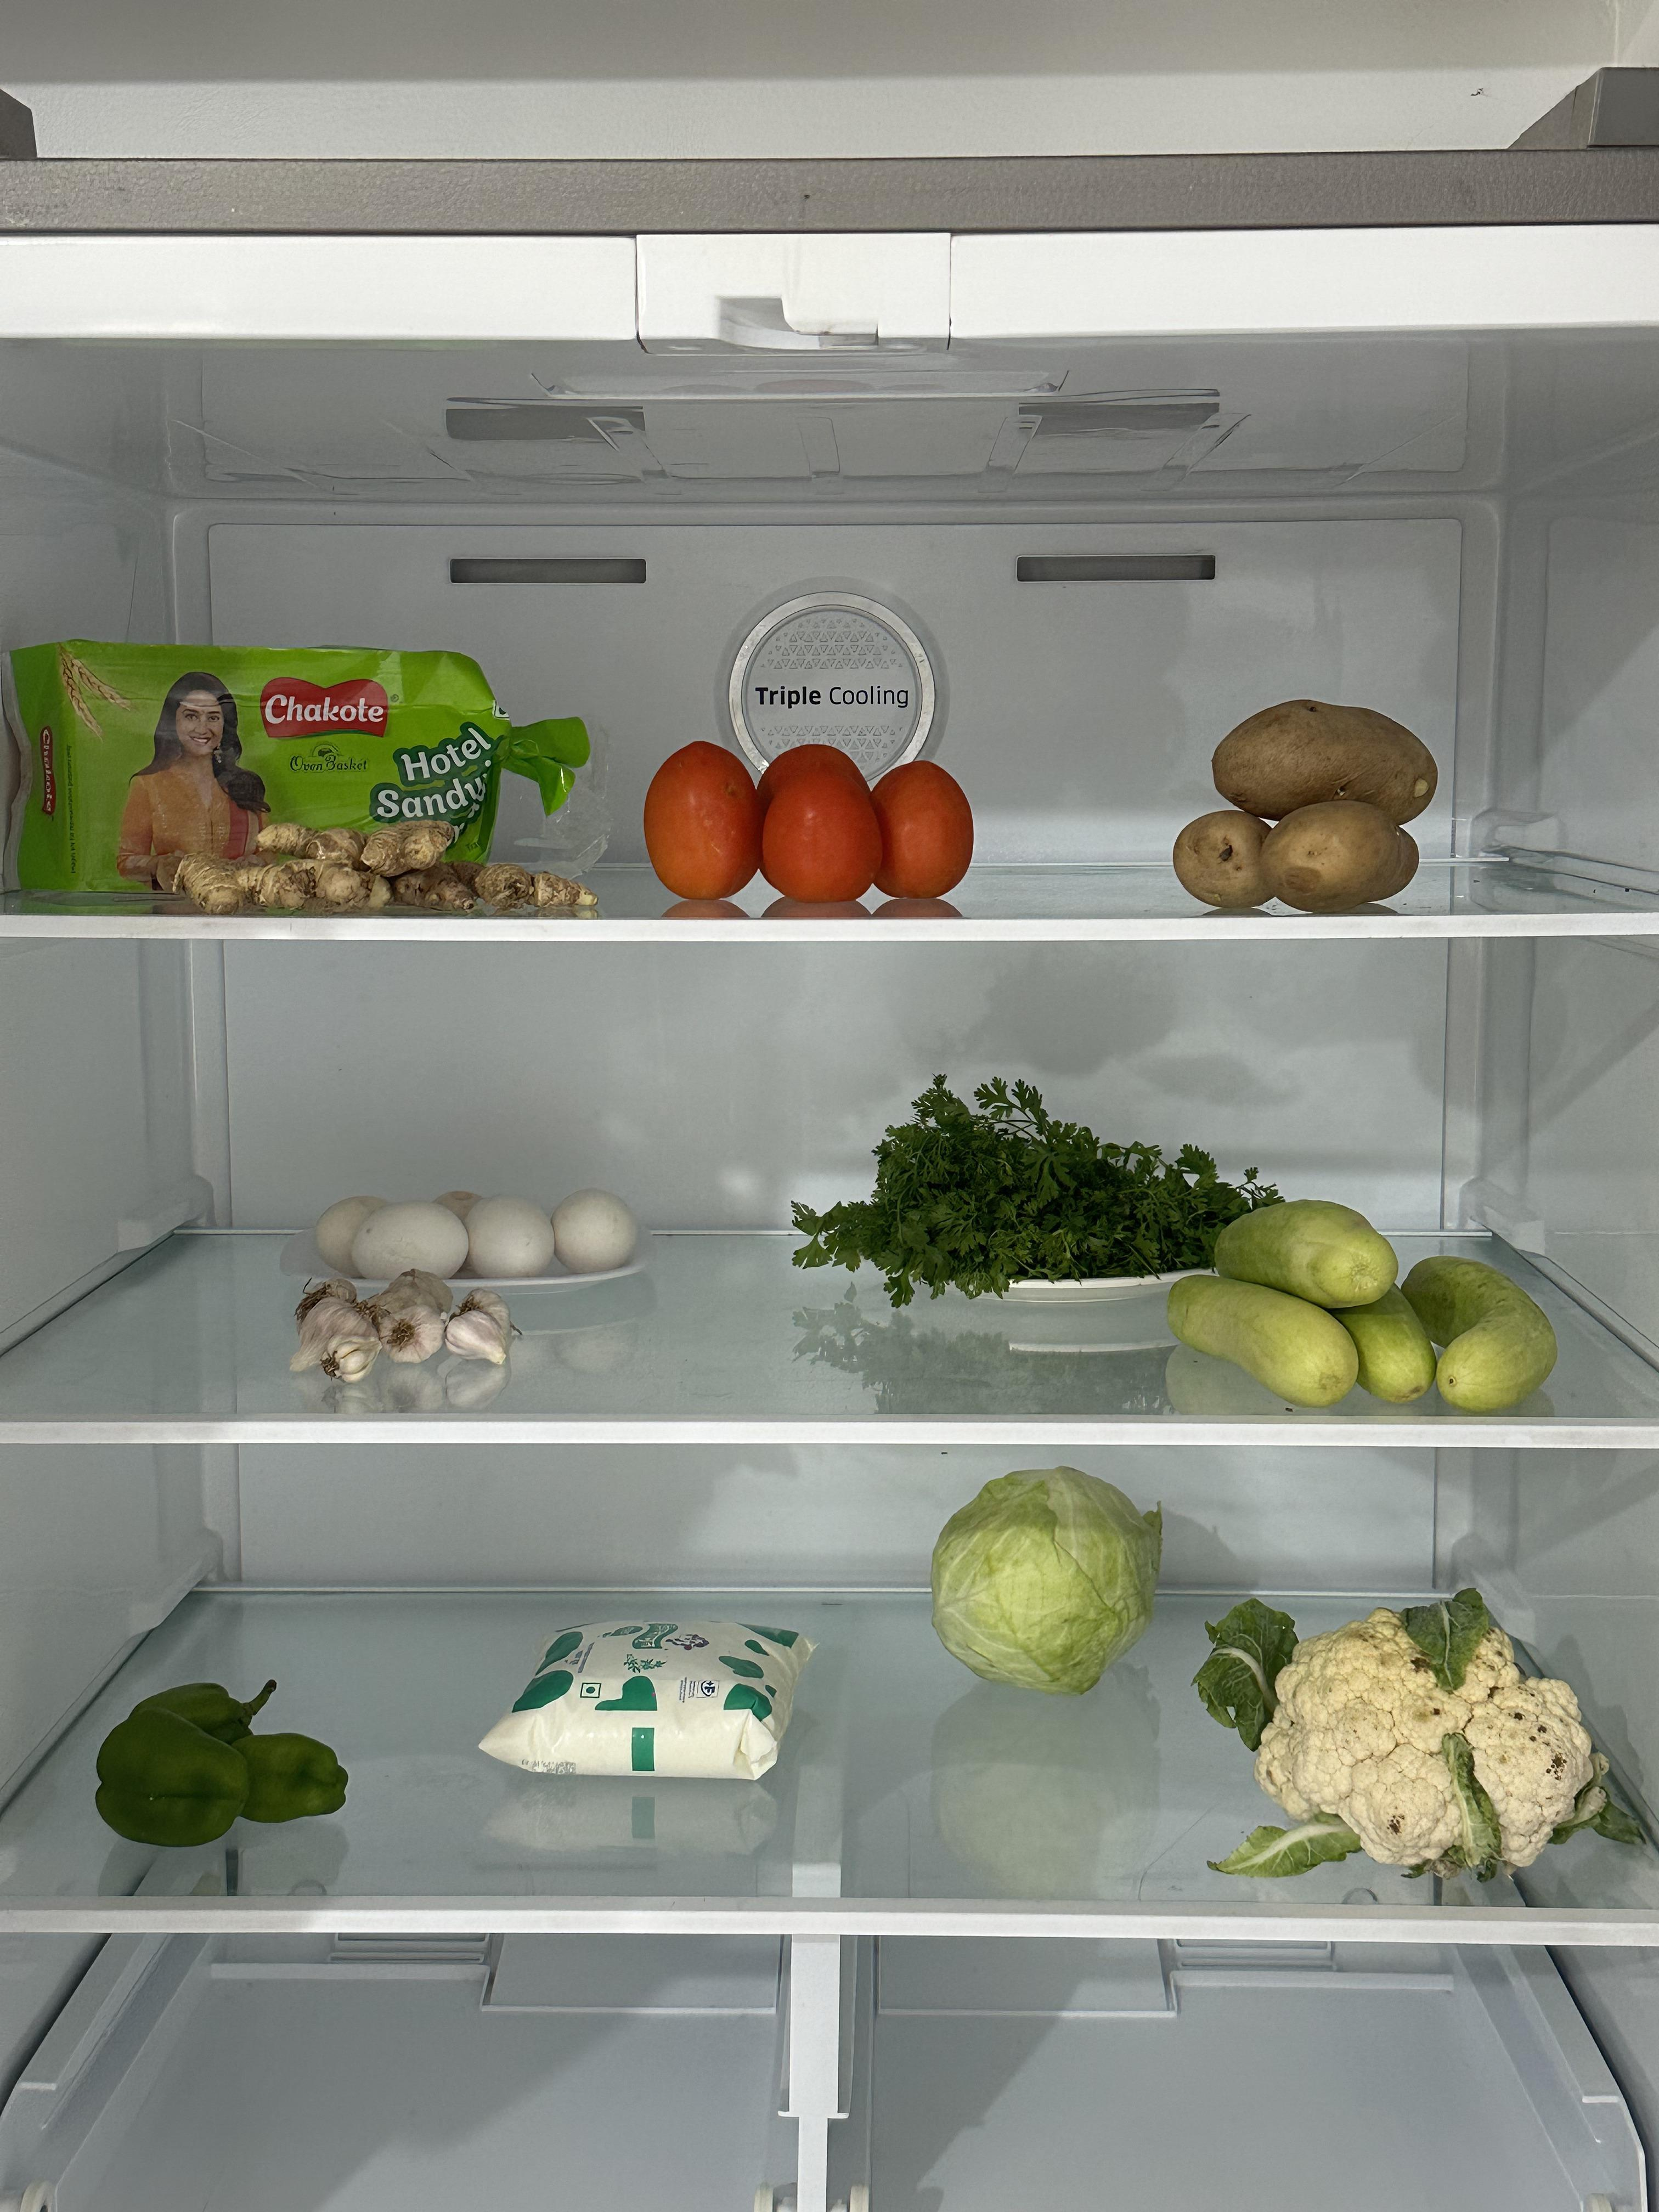bread: (16, 627, 497, 838)
cabbage: (931, 1465, 1166, 1695)
capsicum: (92, 1676, 354, 1850)
cauliflower: (1258, 1608, 1596, 1874)
coriander: (798, 1068, 1201, 1287)
cucumber: (1197, 1200, 1560, 1418)
egg: (307, 1184, 640, 1275)
garlic: (282, 1289, 521, 1385)
ginger: (173, 824, 598, 920)
milk: (479, 1613, 824, 1789)
potato: (1176, 697, 1439, 906)
tomato: (643, 740, 976, 904)
